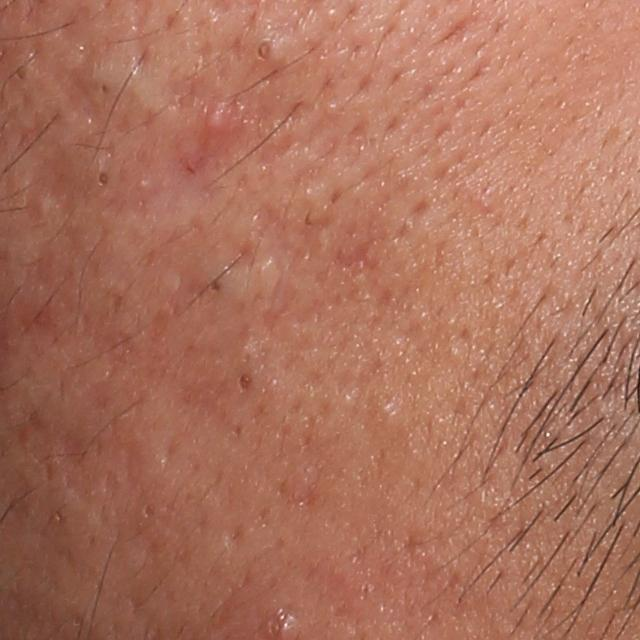atrophic_scar: (22, 4, 122, 130), (251, 199, 332, 334), (19, 131, 79, 230)
comedo: (188, 251, 246, 313), (244, 22, 296, 75), (232, 367, 259, 395), (136, 500, 159, 523), (93, 165, 113, 191)
papule: (202, 95, 242, 150)
